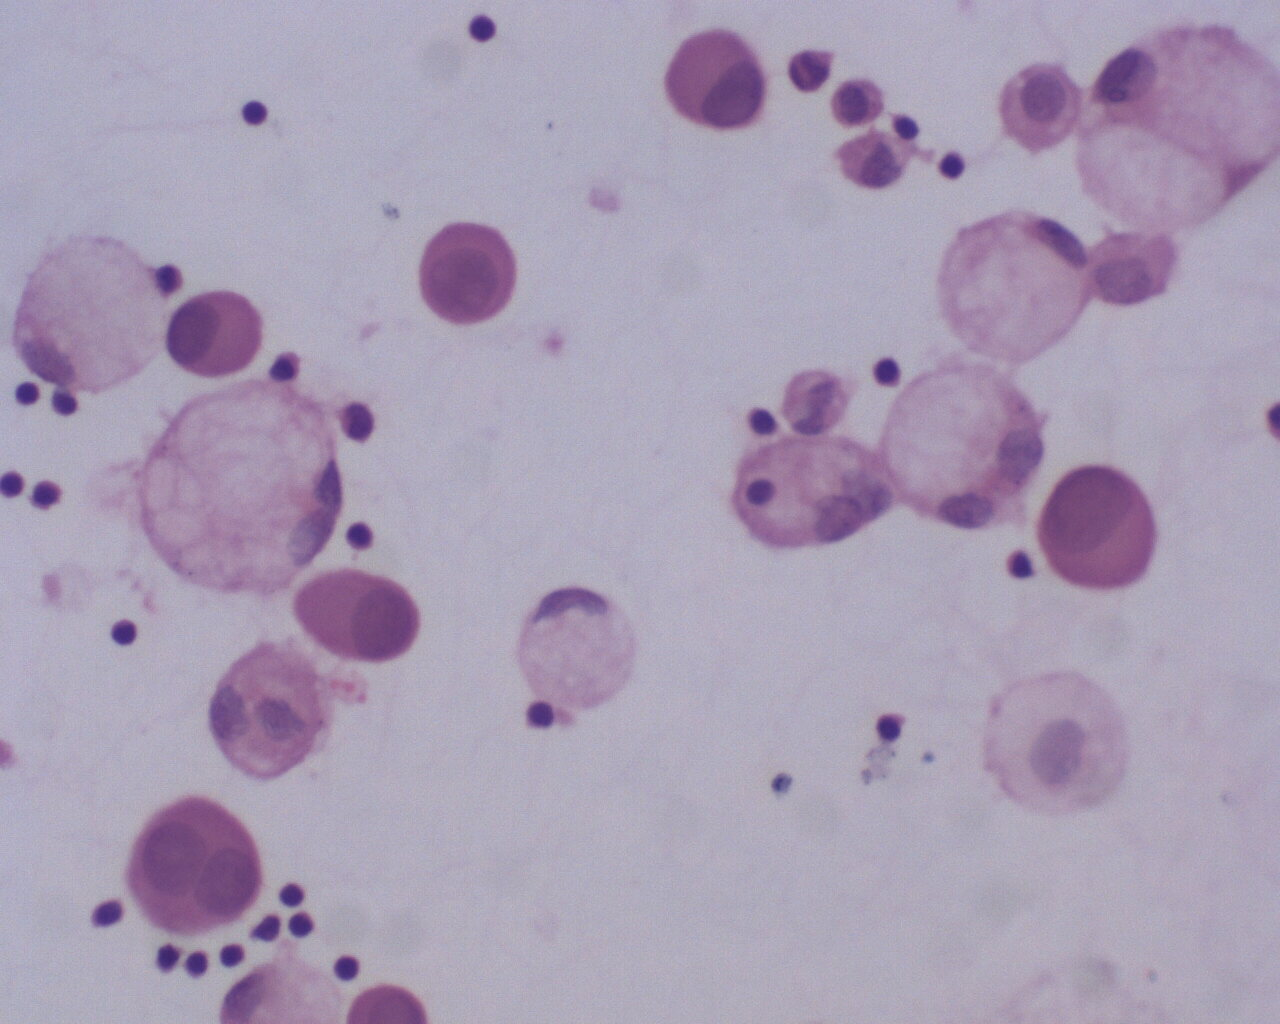ab: (141, 381, 343, 595), (116, 787, 271, 940), (1035, 459, 1163, 594), (293, 565, 421, 673), (664, 25, 768, 136), (417, 218, 522, 327)
histo: (882, 363, 1043, 532), (8, 230, 169, 396), (933, 203, 1091, 365), (516, 569, 639, 708)
lymph: (461, 11, 512, 48), (340, 512, 379, 556), (106, 612, 148, 652), (331, 945, 369, 985), (238, 97, 275, 132)
meso: (994, 60, 1081, 156)
